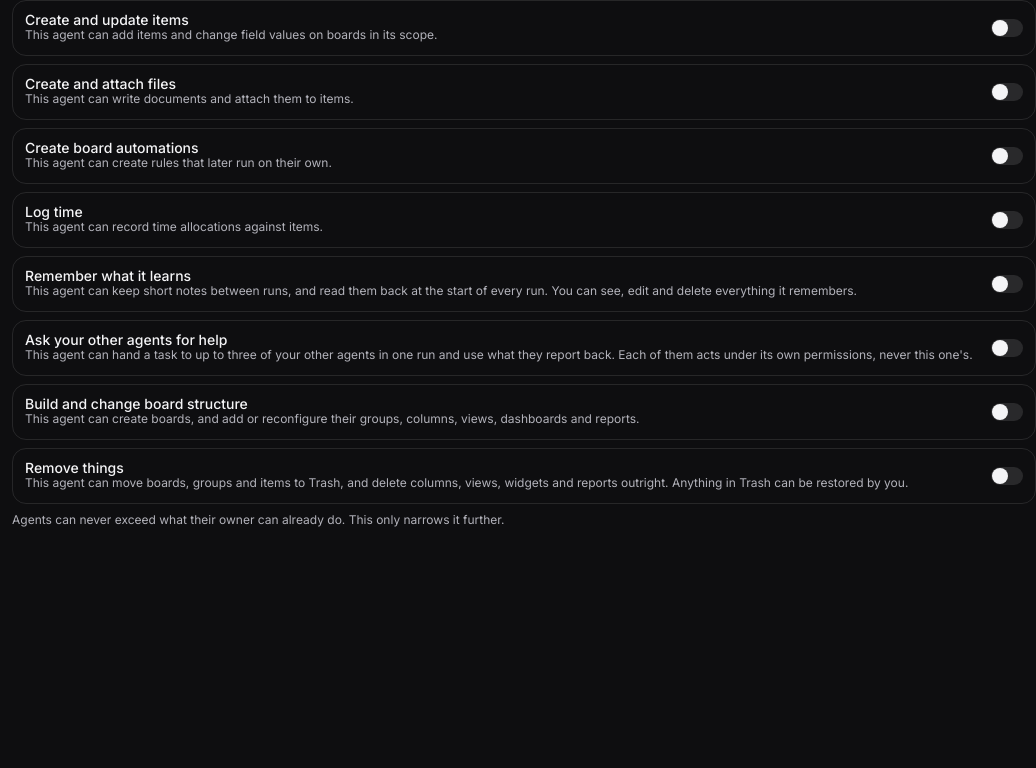
OrgAgentCeiling › reverts and shows an error when the save is rejected
Click the switch named "log time": (1007, 220) [991, 211, 1023, 229]
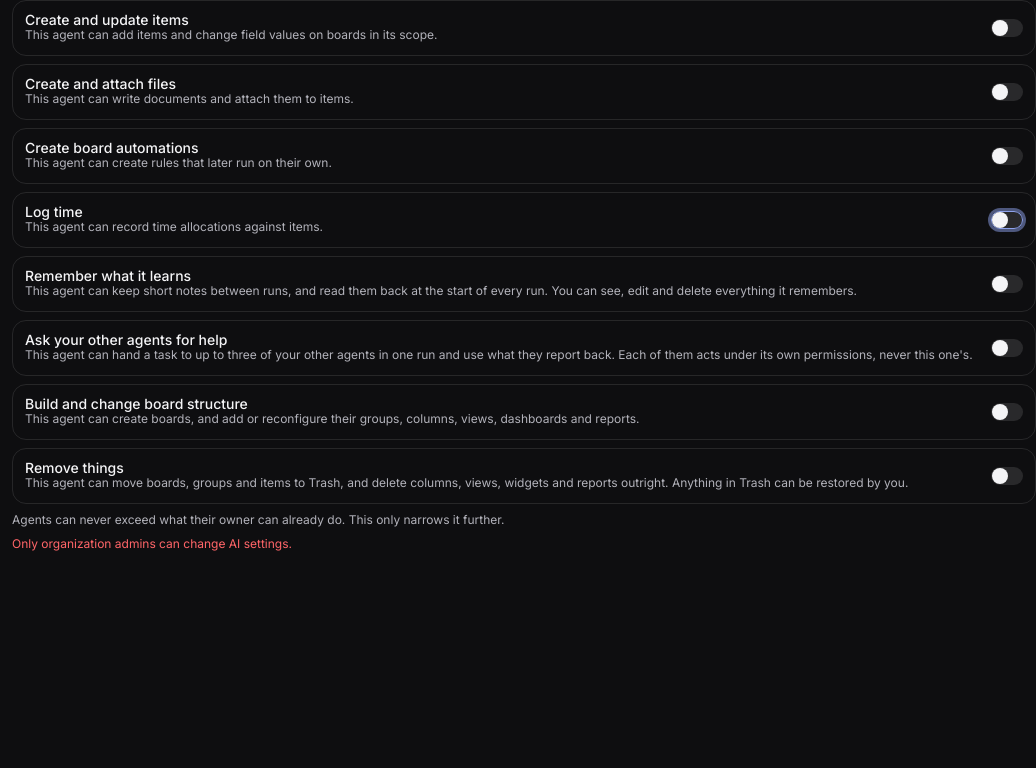
Check: the text "Only organization admins can change AI settings." is shown, box [12, 536, 292, 551]
